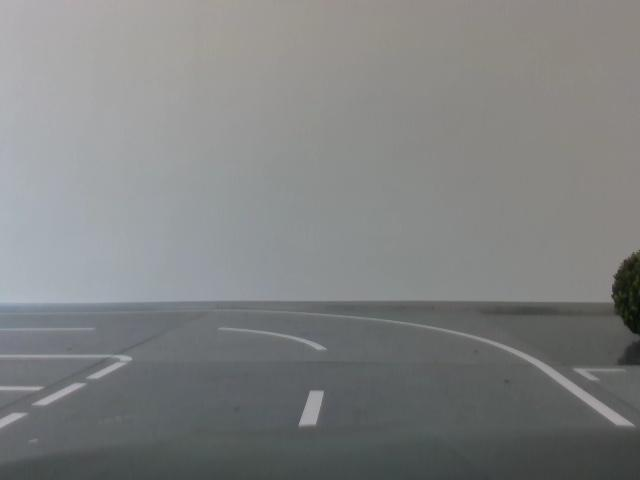potted plant: (613, 242, 640, 359)
